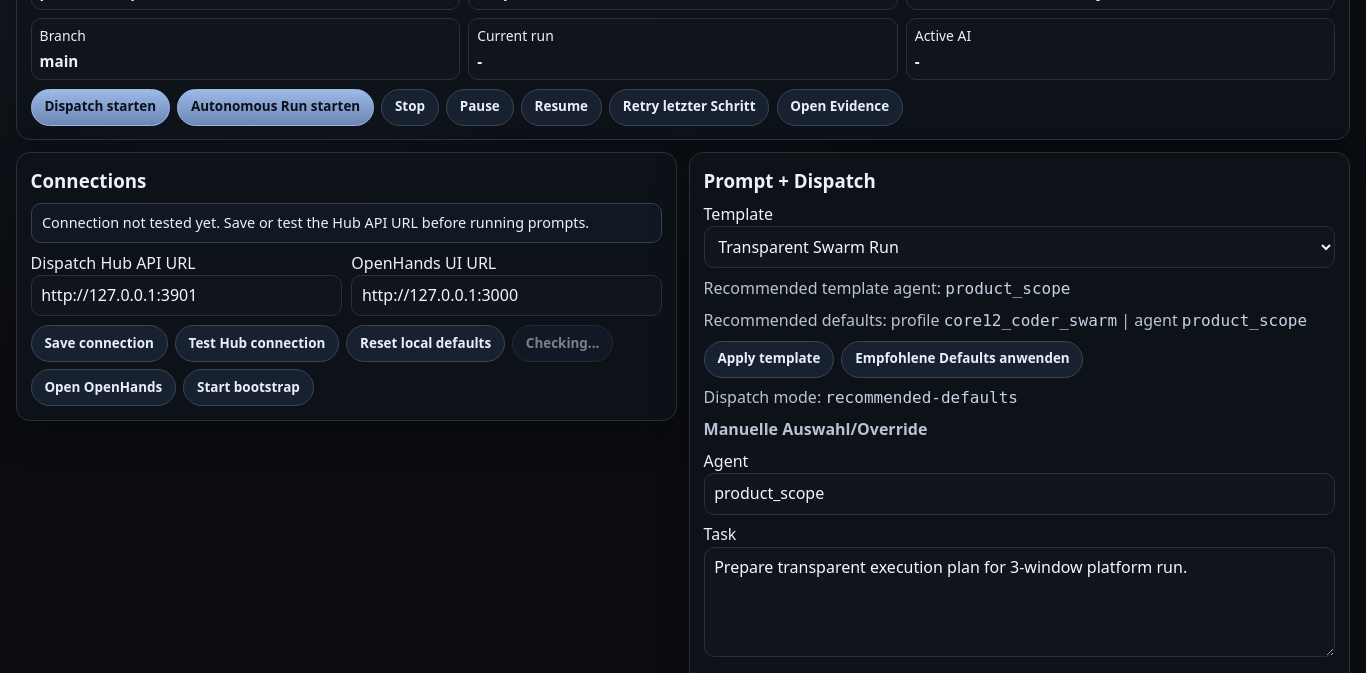
Test: App - three window platform › dedupes repeated event entries and increments repeat counter
(page scrolled)
What coordinates should you click on to do the following:
click the button "Save connection"
I would click on:
 (99, 344)
Its box is [31, 325, 168, 362].
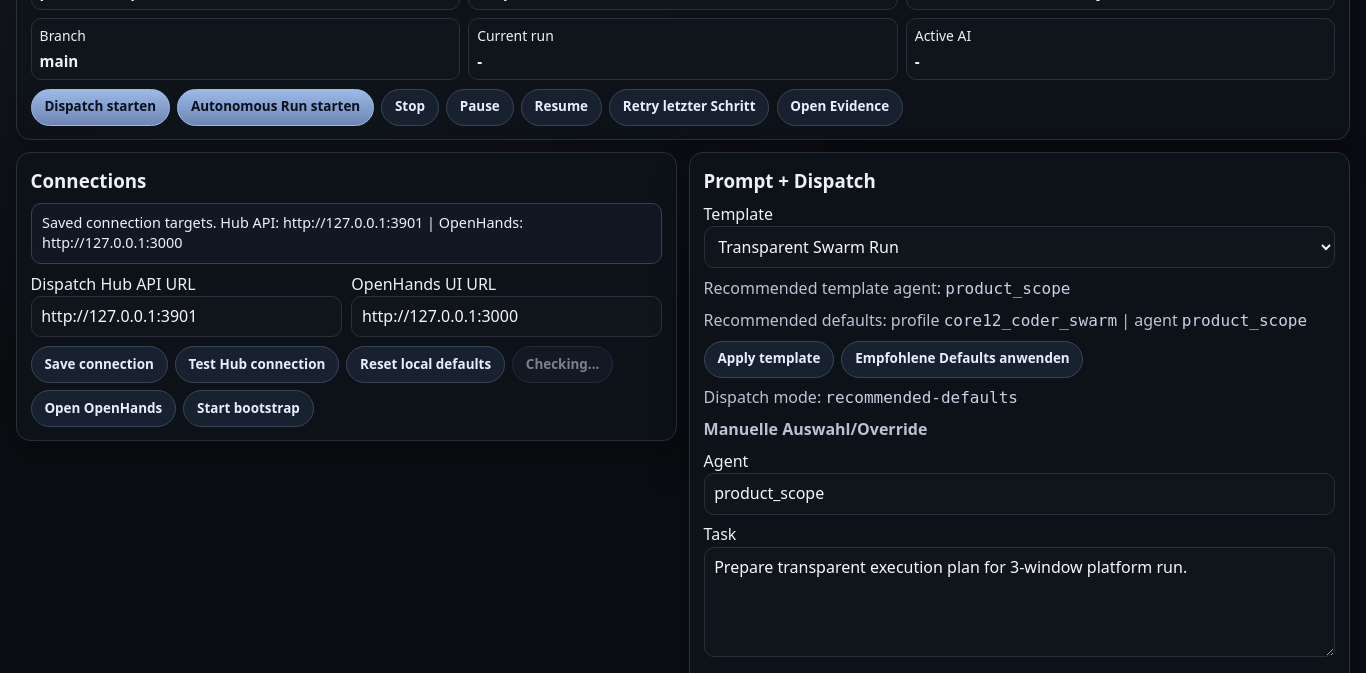
What coordinates should you click on to do the following:
click the button "Save connection"
I would click on:
 (99, 364)
Its box is [31, 346, 168, 383].
(page scrolled)
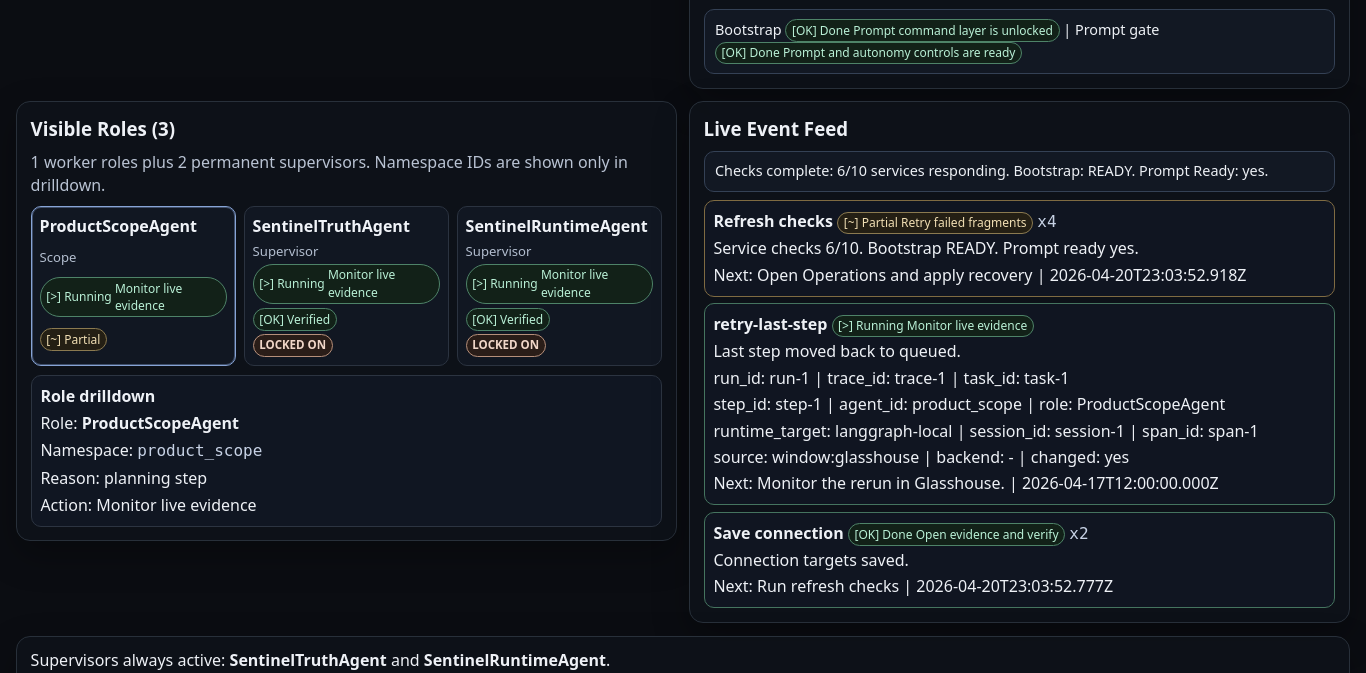
Expected: the text "x2" is shown, [1069, 524, 1089, 543]
